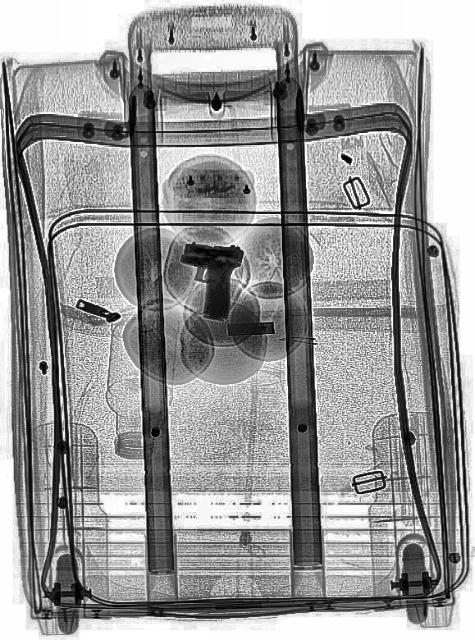Gun: (174, 236, 244, 322)
